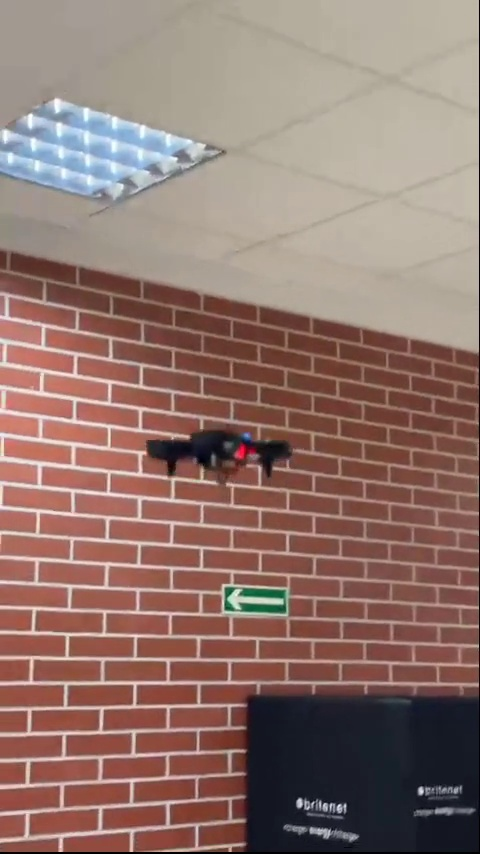drone: (147, 423, 295, 484)
